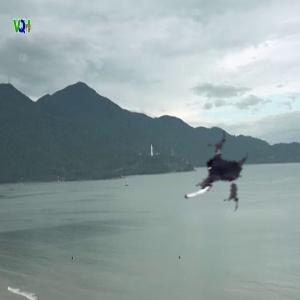drone: (165, 125, 263, 223)
